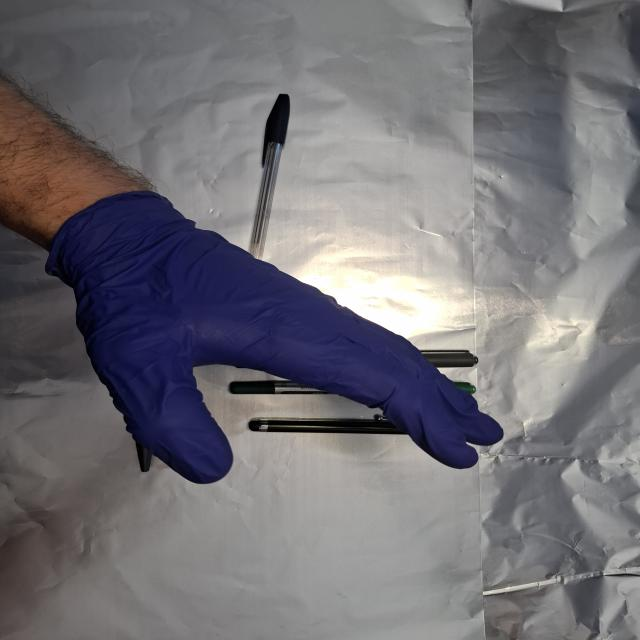glove_on: (44, 186, 509, 487)
